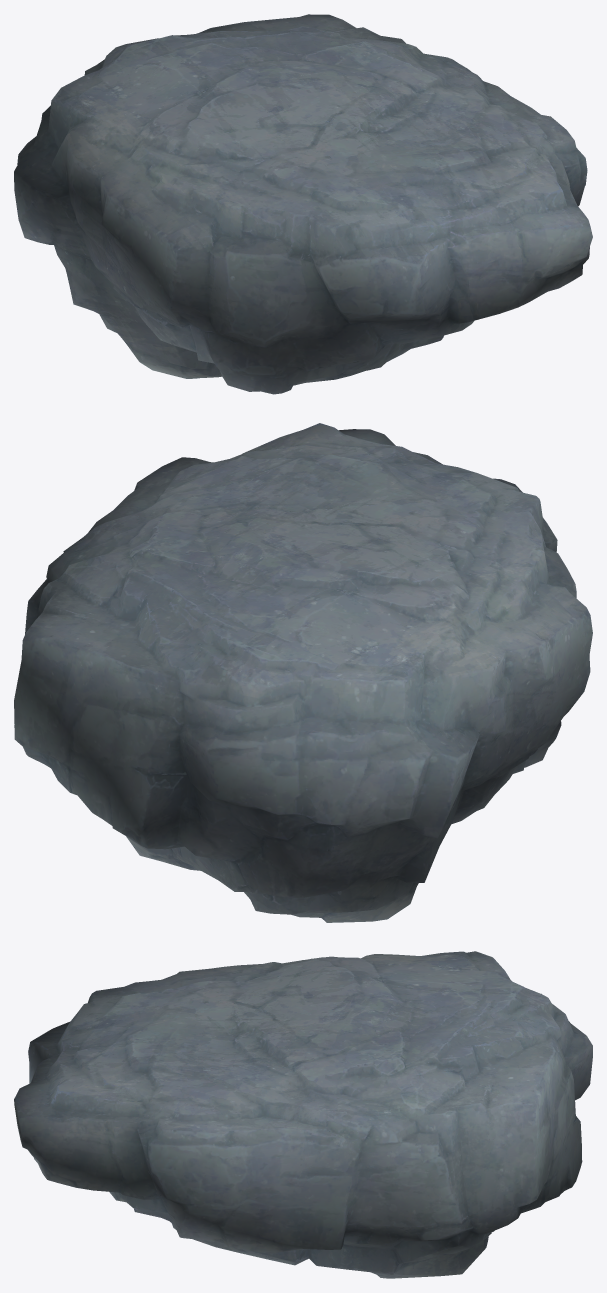
Rendered from Area_Cyjy_Stone_DOWN_Full_L_02.fbx.
The picture shows the model from 3 angles, top to bottom: view 1: azimuth 30°, elevation 25°; view 2: azimuth 150°, elevation 25°; view 3: azimuth 270°, elevation 25°; orthographic projection. The views are drawn at different scales.
Visible parts, largest first — view 1: Area_Cyjy_Stone_DOWN_Full_L_02_Lod0; view 2: Area_Cyjy_Stone_DOWN_Full_L_02_Lod0; view 3: Area_Cyjy_Stone_DOWN_Full_L_02_Lod0.
Part boxes in pixels (x1,y1,x2,y2): Area_Cyjy_Stone_DOWN_Full_L_02_Lod0: (14,14,592,394); Area_Cyjy_Stone_DOWN_Full_L_02_Lod0: (14,423,592,922); Area_Cyjy_Stone_DOWN_Full_L_02_Lod0: (14,951,592,1278).
Size of the model in its own units: 57.87 by 37.66 by 72.4.
1 material, 1 textured.
